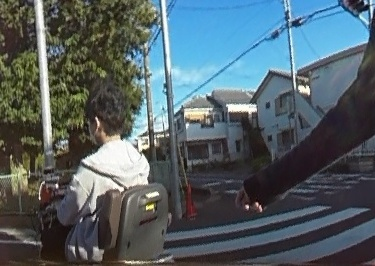person: (56, 83, 154, 266)
